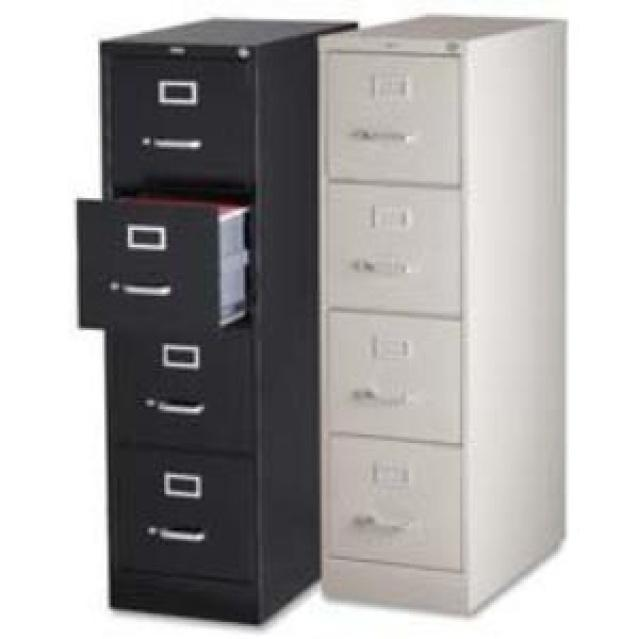Filing Cabinet: (72, 41, 259, 624), (316, 36, 469, 613)
